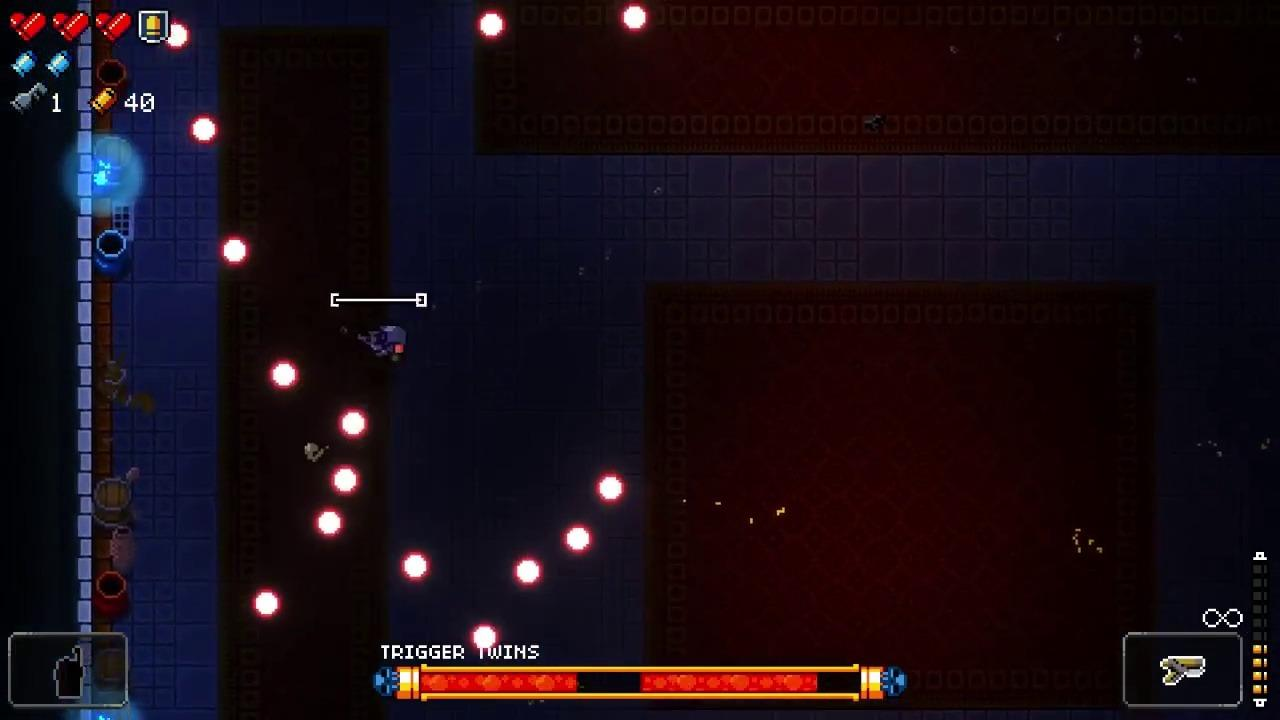bullet: (313, 509, 347, 542), (338, 408, 372, 441), (593, 472, 627, 505), (251, 587, 283, 621), (513, 558, 545, 591), (328, 467, 363, 497), (220, 237, 252, 268), (562, 525, 594, 555), (473, 11, 506, 40), (470, 623, 500, 654), (268, 362, 301, 390), (619, 6, 650, 34), (163, 21, 191, 51), (399, 555, 431, 580), (191, 119, 219, 147)
player: (356, 324, 407, 361)
